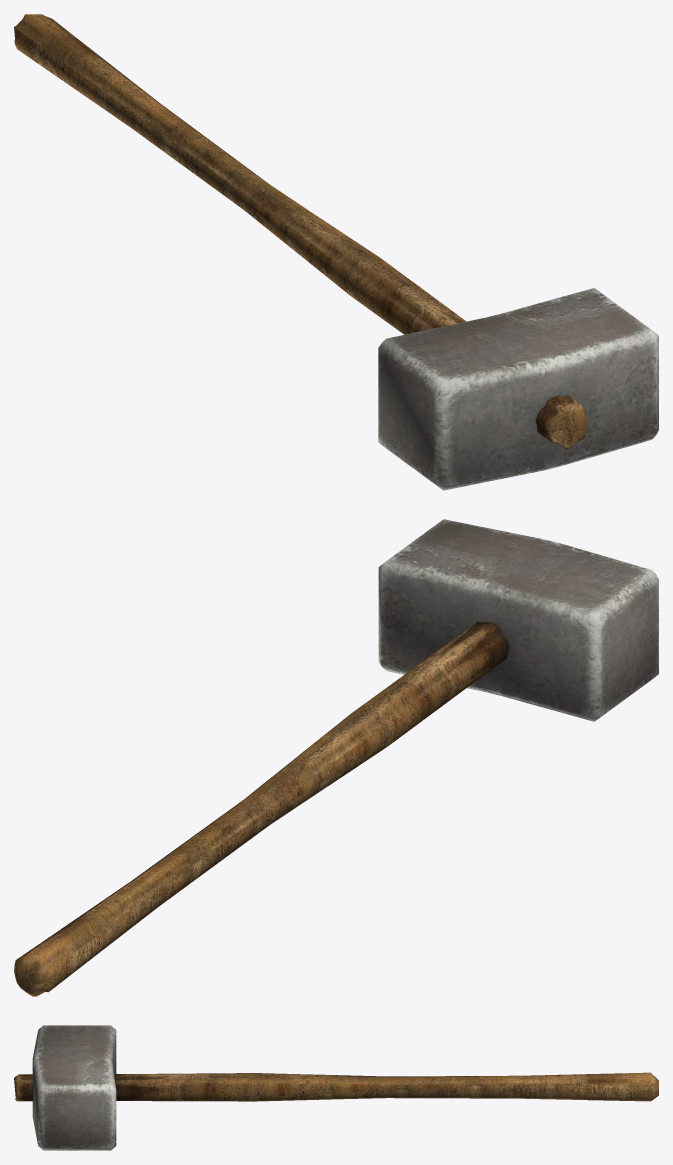
File: hammer01.fbx
3 views of the same model, one above another, from view 1: azimuth 30°, elevation 25°; view 2: azimuth 150°, elevation 25°; view 3: azimuth 270°, elevation 25° (orthographic). The views are drawn at different scales.
Parts seen in each view (by area): view 1: Mace01; view 2: Mace01; view 3: Mace01.
Part boxes in pixels (x1=…): Mace01: x1=14, y1=14, x2=658, y2=490; Mace01: x1=14, y1=519, x2=658, y2=996; Mace01: x1=14, y1=1025, x2=658, y2=1150.
Bounding box in the file's own units: 19.66 × 9.24 × 83.29.
